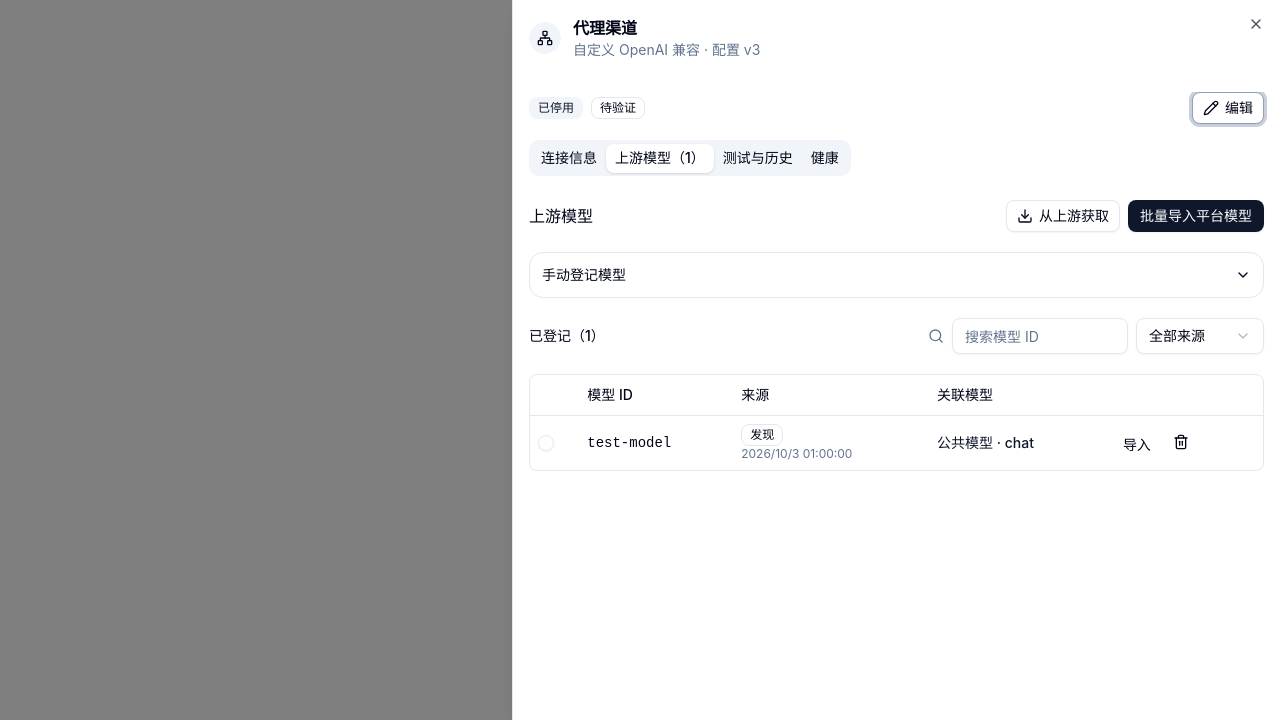
Test case: surfaces a removal conflict with linked model instead of hiding the 409
Click the button named "移除 test-model": [1181, 442] box [1163,424,1199,460]
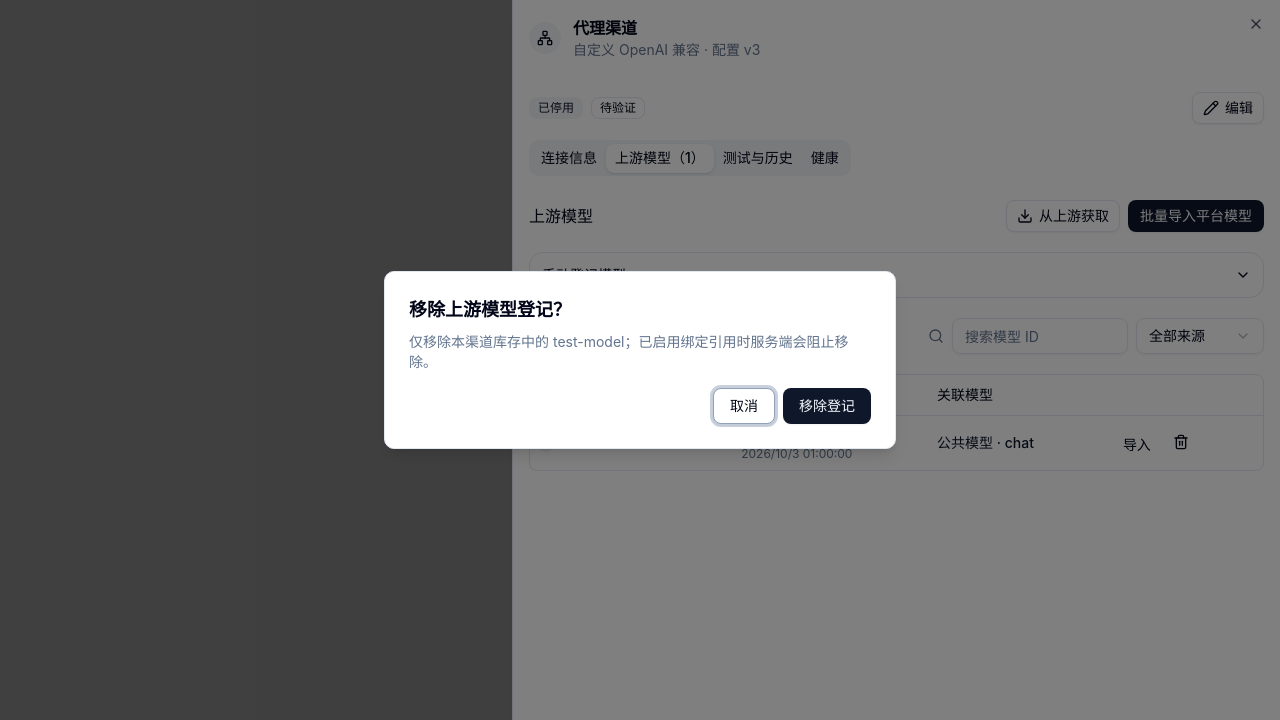
Click the button "移除登记": [827, 406] box [783,388,871,424]
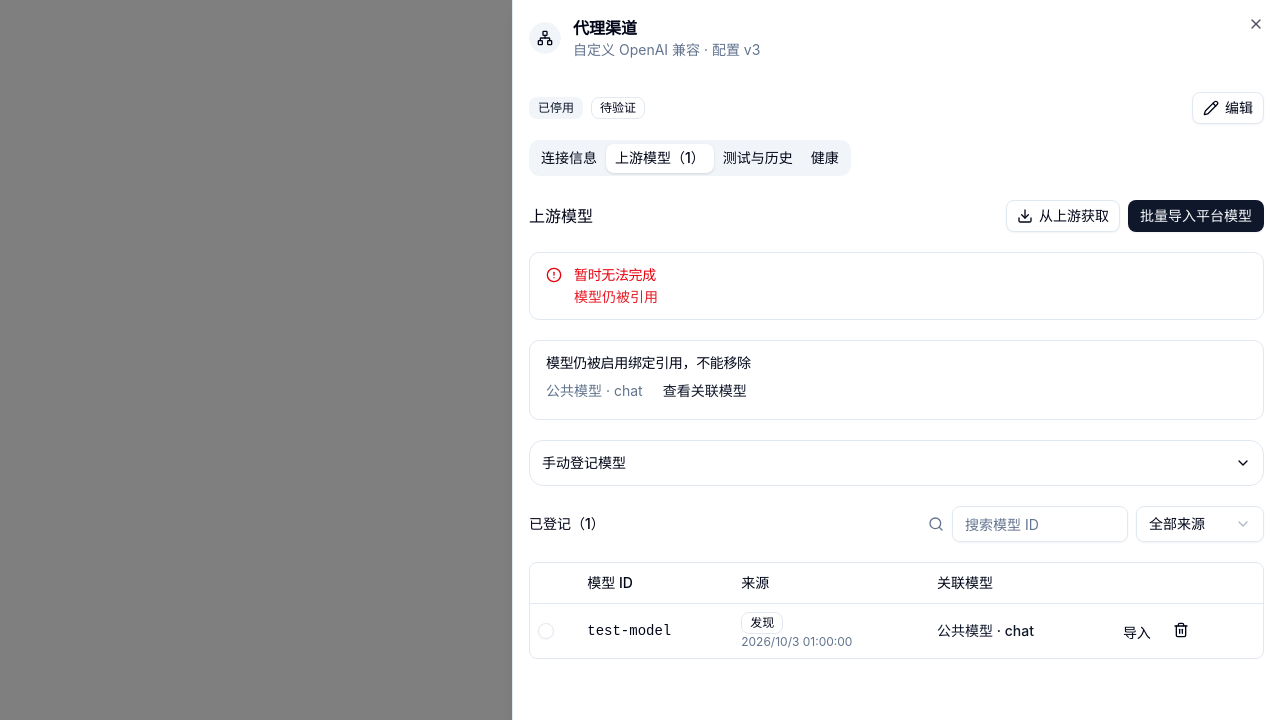
Now the text "模型仍被启用绑定引用，不能移除" is shown, box [546,354,751,371]
Now the button "查看关联模型" is shown, box [651,375,759,407]
